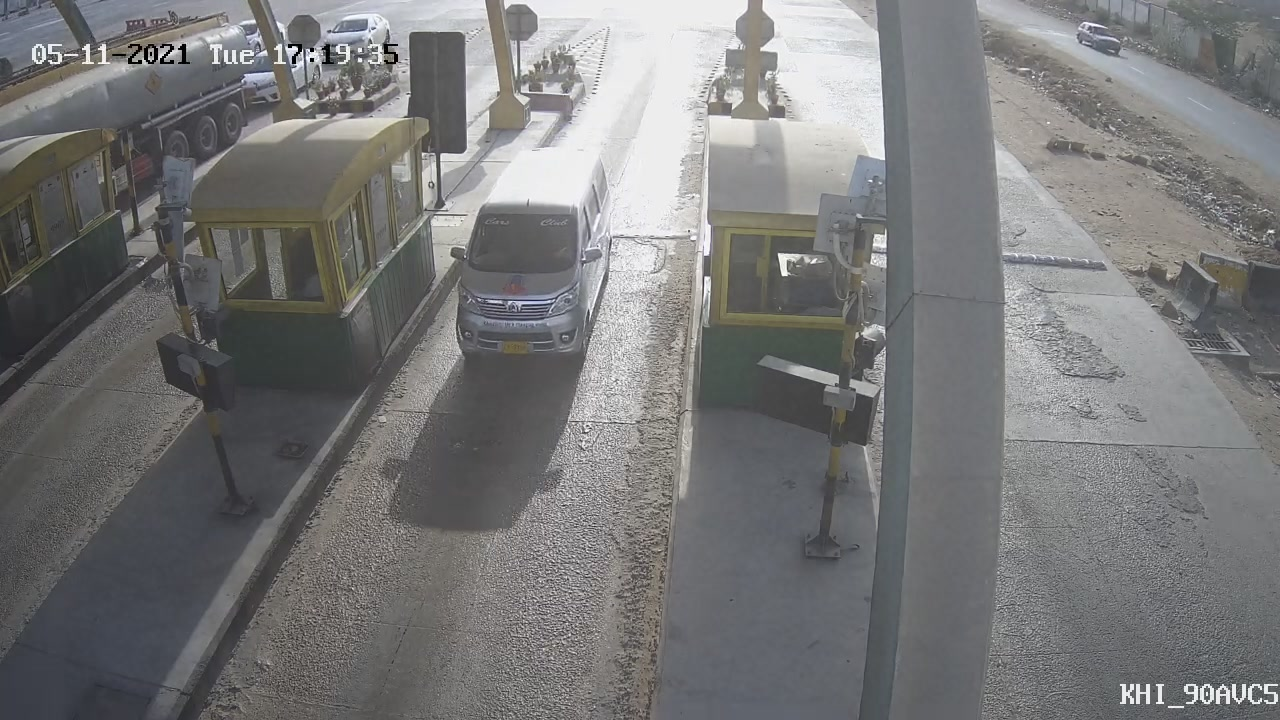F1: (420, 138, 642, 374)
